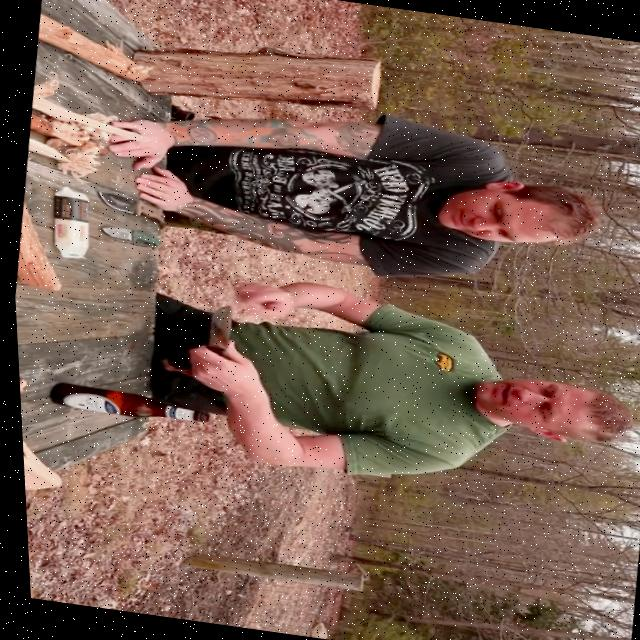knife: (92, 189, 167, 223), (199, 302, 234, 358), (97, 223, 163, 248)
